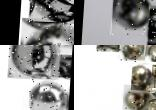ironball: (8, 45, 61, 78), (20, 16, 74, 45), (112, 0, 155, 35), (29, 77, 69, 109), (28, 0, 74, 23), (123, 83, 151, 109), (132, 61, 155, 88), (51, 52, 72, 75), (120, 45, 145, 60), (147, 3, 155, 45), (143, 91, 155, 109), (148, 73, 155, 98)
